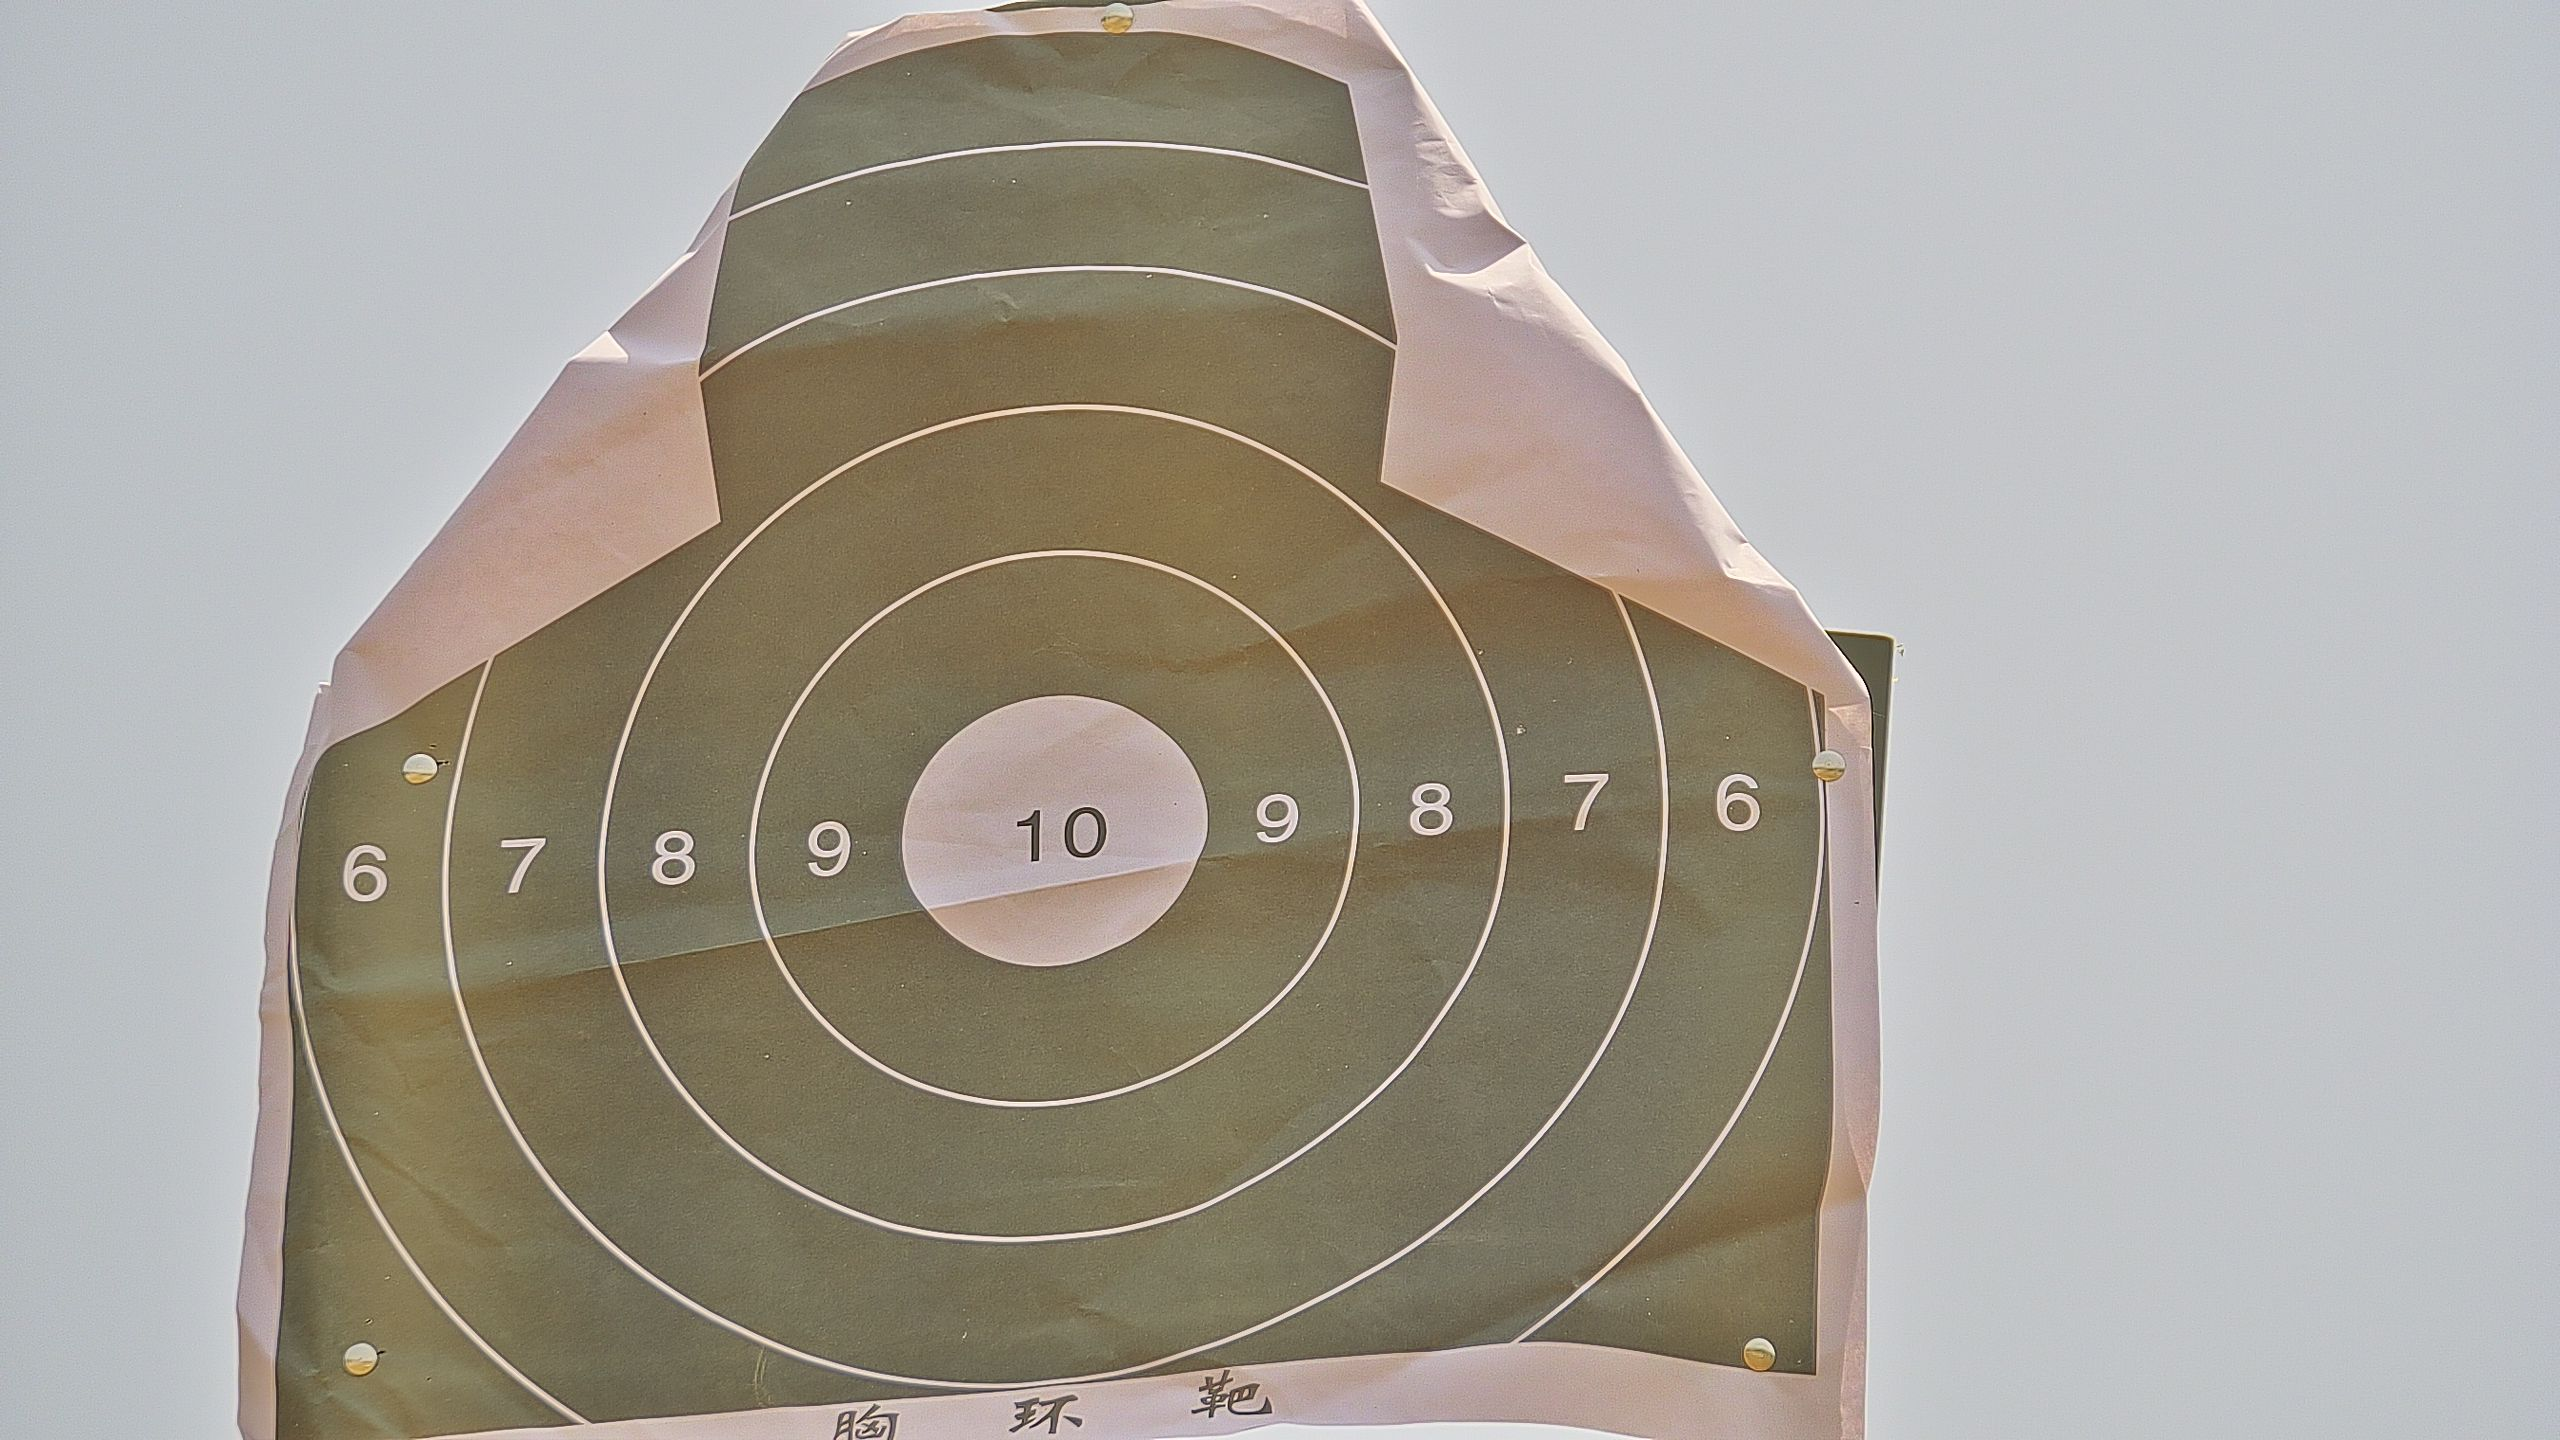kernel: (1050, 837, 1057, 839)
target: (278, 32, 1832, 1440)
ten: (898, 695, 1215, 971)
